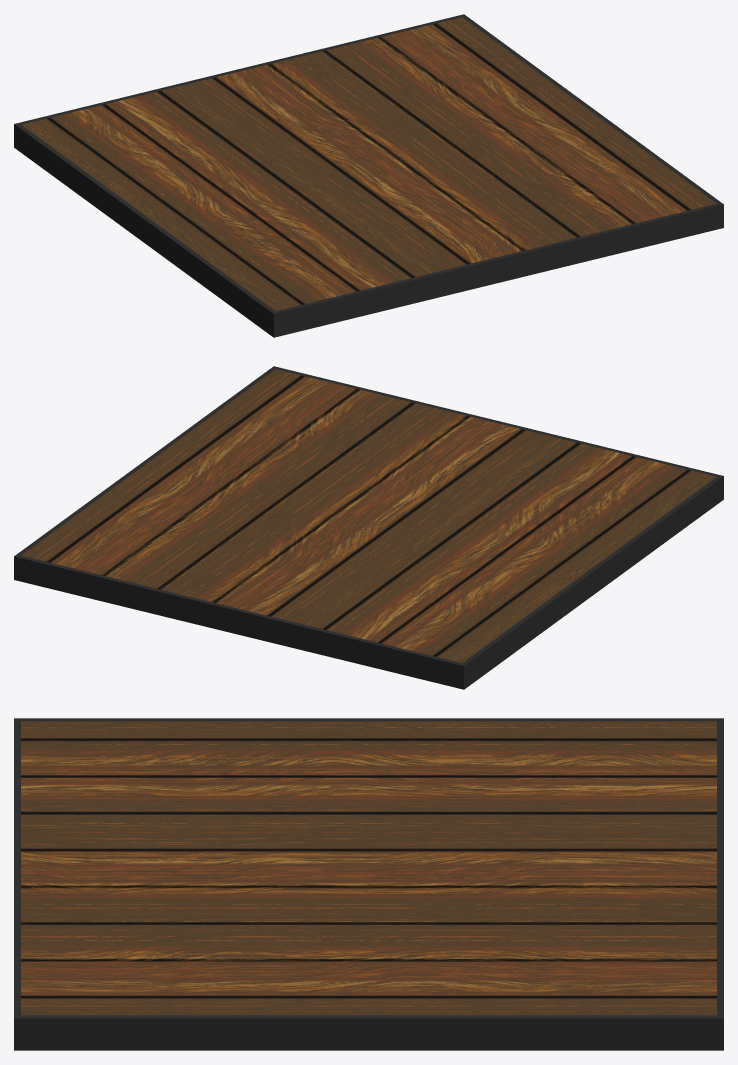
Rendered from Level-Floor-03.fbx.
The picture shows the model from 3 angles, top to bottom: view 1: azimuth 30°, elevation 25°; view 2: azimuth 150°, elevation 25°; view 3: azimuth 270°, elevation 25°; orthographic projection. The views are drawn at different scales.
Parts seen in each view (by area): view 1: Floor 03; view 2: Floor 03; view 3: Floor 03.
Boxes of the visible parts, x1,y1,x2,y2 form: Floor 03: (14,14,723,337); Floor 03: (14,366,723,689); Floor 03: (14,718,723,1050).
Bounding box in the file's own units: 100 × 5 × 100.
Materials: 2 (1 with a texture image).
